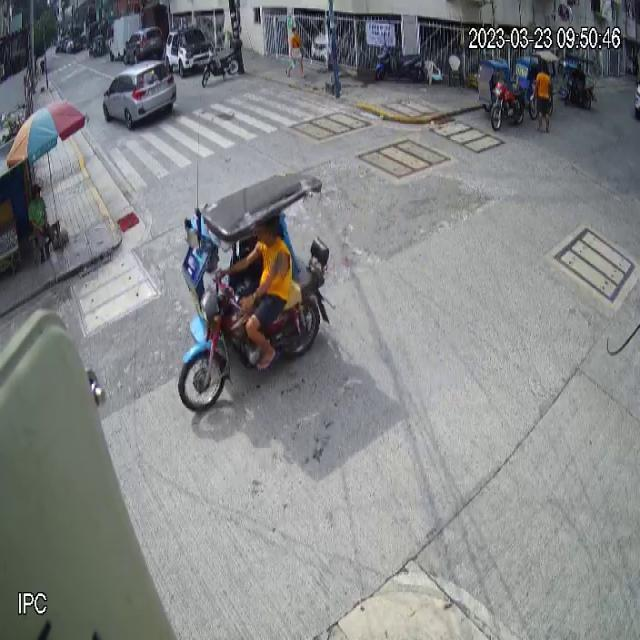Car: (102, 60, 177, 130)
Tricycle: (177, 172, 329, 414), (478, 58, 526, 132)
